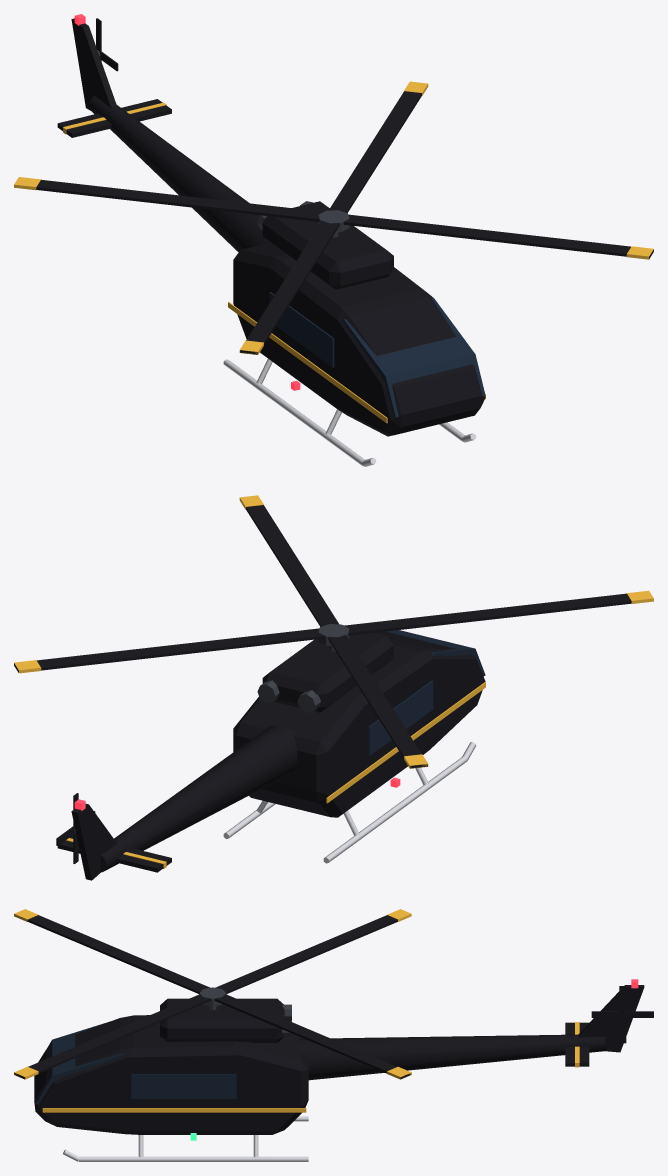
The model's file is helicopter.glb.
3 views of the same model, one above another, from view 1: azimuth 30°, elevation 25°; view 2: azimuth 150°, elevation 25°; view 3: azimuth 270°, elevation 25° (orthographic). The views are drawn at different scales.
Visible parts, largest first — view 1: helicopter, Rotor; view 2: helicopter, Rotor; view 3: helicopter, Rotor, TailRotor.
Boxes of the visible parts, x1,y1,x2,y2 form: helicopter: (57, 14, 485, 466); Rotor: (14, 81, 653, 354); helicopter: (57, 624, 485, 880); Rotor: (14, 495, 653, 768); helicopter: (34, 979, 644, 1161); Rotor: (14, 909, 411, 1079); TailRotor: (591, 986, 653, 1043).
Bounding box in the file's own units: 8.29 × 3.7 × 13.35.
